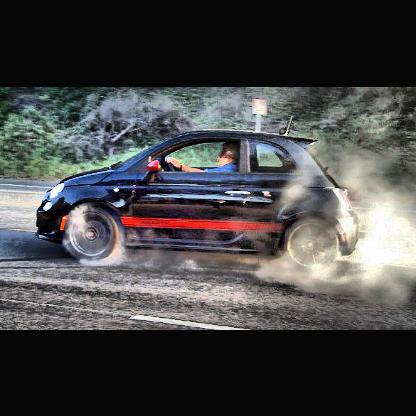FIAT 500 Abarth 2012: (38, 119, 361, 274)
